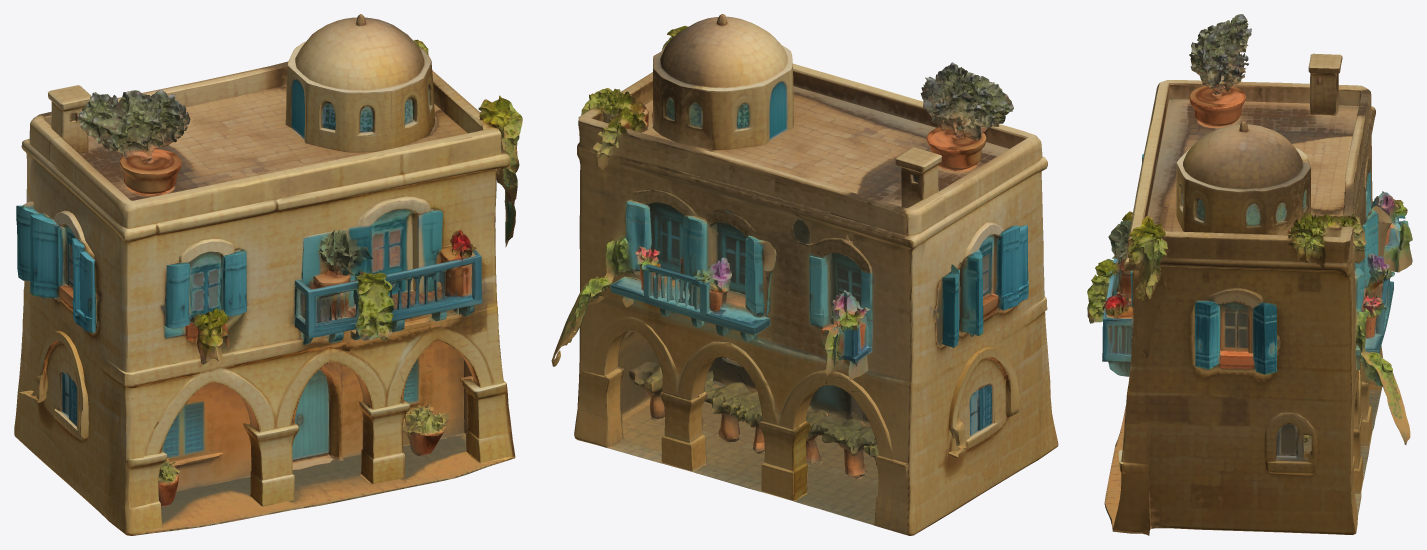
The model's file is old_house_jaffa.glb.
3 renders of one model, left to right at view 1: azimuth 30°, elevation 25°; view 2: azimuth 150°, elevation 25°; view 3: azimuth 270°, elevation 25°, orthographic. The views are drawn at different scales.
Parts seen in each view (by area): view 1: geometry_0; view 2: geometry_0; view 3: geometry_0.
Boxes of the visible parts, x1,y1,x2,y2 form: geometry_0: [14, 14, 522, 535]; geometry_0: [551, 14, 1058, 535]; geometry_0: [1087, 14, 1412, 535].
Bounding box in the file's own units: 10.29 × 10 × 7.87.
1 material, 1 textured.
